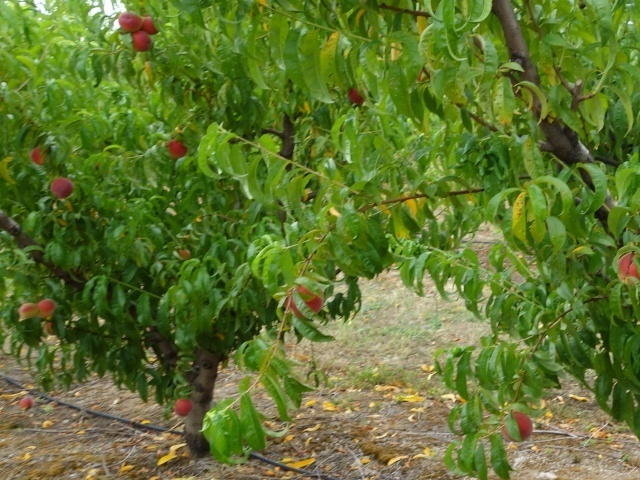peach: (279, 283, 325, 323), (499, 407, 537, 446), (611, 249, 640, 285), (114, 8, 146, 37), (126, 26, 154, 55), (46, 175, 75, 201), (169, 393, 195, 419), (342, 84, 369, 109), (164, 136, 189, 162), (135, 15, 161, 38), (28, 142, 51, 168), (17, 298, 38, 324), (34, 297, 58, 319)
